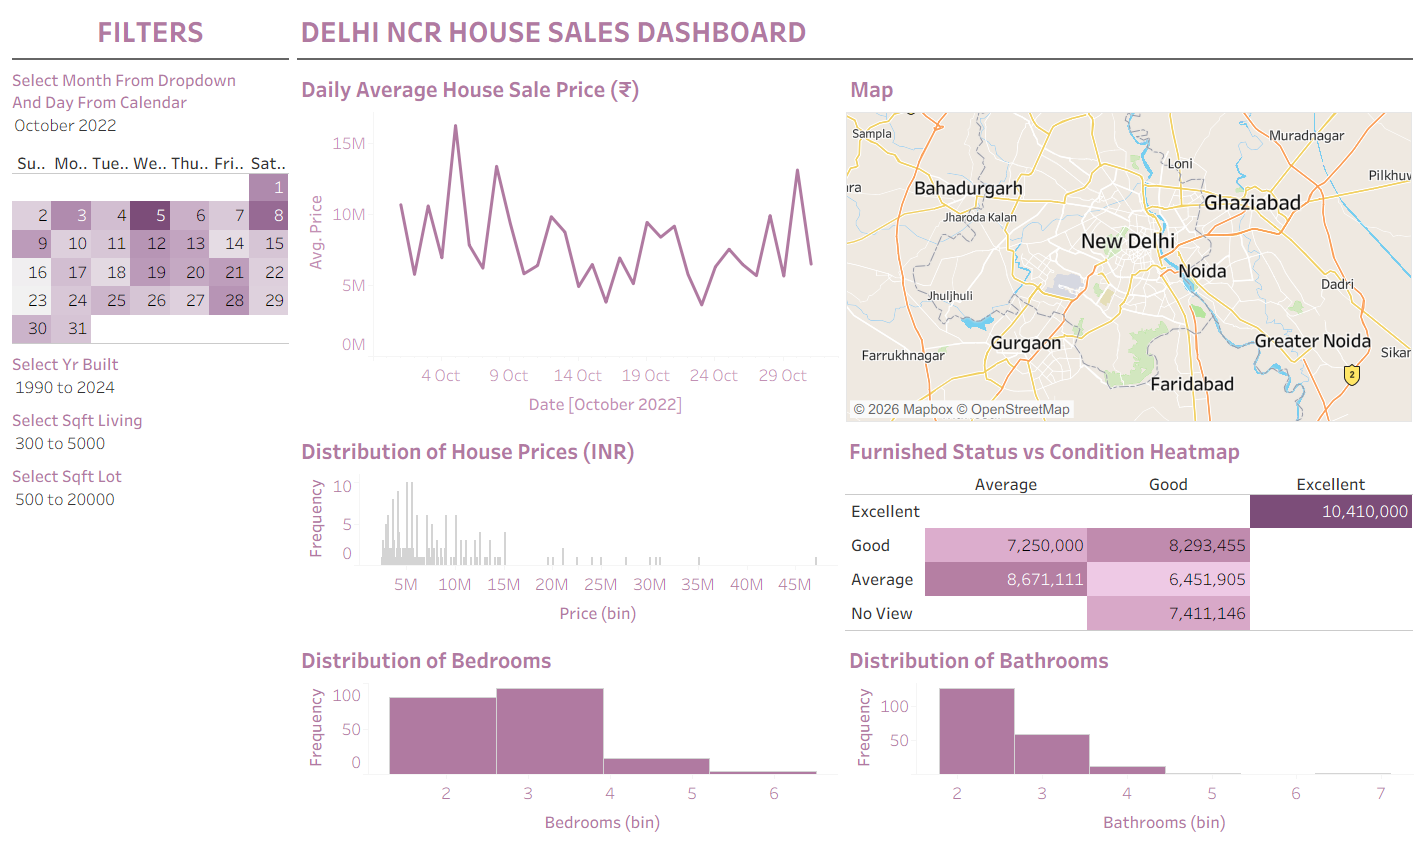

The page's visual inventory and layout, read from the dashboard file:
{"tool":"tableau","page":{"name":"KingCountyHouseSales","canvas":[1000,1000],"units":"permille","ordinal":0},"visuals":[{"type":"text","box":[5.9,10.4,199.8,48.2]},{"type":"text","box":[205.7,10.4,788.4,48.2]},{"type":"blank","box":[5.9,58.6,199.8,13]},{"type":"blank","box":[205.7,58.6,788.4,13]},{"type":"filter","title":"Calendar","param":"[federated.14vsmoo0c83mri1csfxg113oma8j].[my:date:ok]","box":[5.9,71.6,199.8,96.4]},{"type":"worksheet","title":"LineChart","mark":"Automatic","rows":["price"],"cols":["date"],"box":[205.7,71.6,381.8,428.4]},{"type":"worksheet","title":"Map","mark":"Automatic","box":[587.5,71.6,406.7,428.4]},{"type":"worksheet","title":"Calendar","mark":"Square","rows":["date"],"cols":["date"],"box":[5.9,168,199.8,259.1]},{"type":"filter","title":"Calendar","param":"[federated.14vsmoo0c83mri1csfxg113oma8j].[none:yr_built:qk]","box":[5.9,427.1,199.8,91.2]},{"type":"worksheet","title":"HistHousePrice","mark":"Automatic","rows":["price"],"cols":["Price (bin)"],"box":[205.7,500,384.3,244.8]},{"type":"worksheet","title":"Heatmap","mark":"Square","rows":["view"],"cols":["condition"],"box":[590,500,404.1,244.8]},{"type":"filter","title":"Calendar","param":"[federated.14vsmoo0c83mri1csfxg113oma8j].[none:sqft_living:qk]","box":[5.9,518.2,199.8,91.2]},{"type":"filter","title":"Calendar","param":"[federated.14vsmoo0c83mri1csfxg113oma8j].[none:sqft_lot:qk]","box":[5.9,609.4,199.8,91.2]},{"type":"worksheet","title":"HistBedrooms","mark":"Automatic","rows":["bedrooms"],"cols":["Bedrooms (bin)"],"box":[205.7,744.8,384.3,244.8]},{"type":"worksheet","title":"HistBathrooms","mark":"Automatic","rows":["bathrooms"],"cols":["Bathrooms (bin)"],"box":[590,744.8,404.1,244.8]}]}

Visuals, with their boxes on the dashboard's canvas, which has no fixed pixel size, in thousandths of its width and height (x1, y1, x2, y2). These are canvas units, not pixel positions in the 1425x852 screenshot, which may show the page scaled, cropped or inside an application window:
text: {"left": 6, "top": 10, "right": 206, "bottom": 59}
text: {"left": 206, "top": 10, "right": 994, "bottom": 59}
blank: {"left": 6, "top": 59, "right": 206, "bottom": 72}
blank: {"left": 206, "top": 59, "right": 994, "bottom": 72}
"Calendar" filter: {"left": 6, "top": 72, "right": 206, "bottom": 168}
"LineChart" worksheet: {"left": 206, "top": 72, "right": 588, "bottom": 500}
"Map" worksheet: {"left": 588, "top": 72, "right": 994, "bottom": 500}
"Calendar" worksheet (Square marks): {"left": 6, "top": 168, "right": 206, "bottom": 427}
"Calendar" filter: {"left": 6, "top": 427, "right": 206, "bottom": 518}
"HistHousePrice" worksheet: {"left": 206, "top": 500, "right": 590, "bottom": 745}
"Heatmap" worksheet (Square marks): {"left": 590, "top": 500, "right": 994, "bottom": 745}
"Calendar" filter: {"left": 6, "top": 518, "right": 206, "bottom": 609}
"Calendar" filter: {"left": 6, "top": 609, "right": 206, "bottom": 701}
"HistBedrooms" worksheet: {"left": 206, "top": 745, "right": 590, "bottom": 990}
"HistBathrooms" worksheet: {"left": 590, "top": 745, "right": 994, "bottom": 990}
